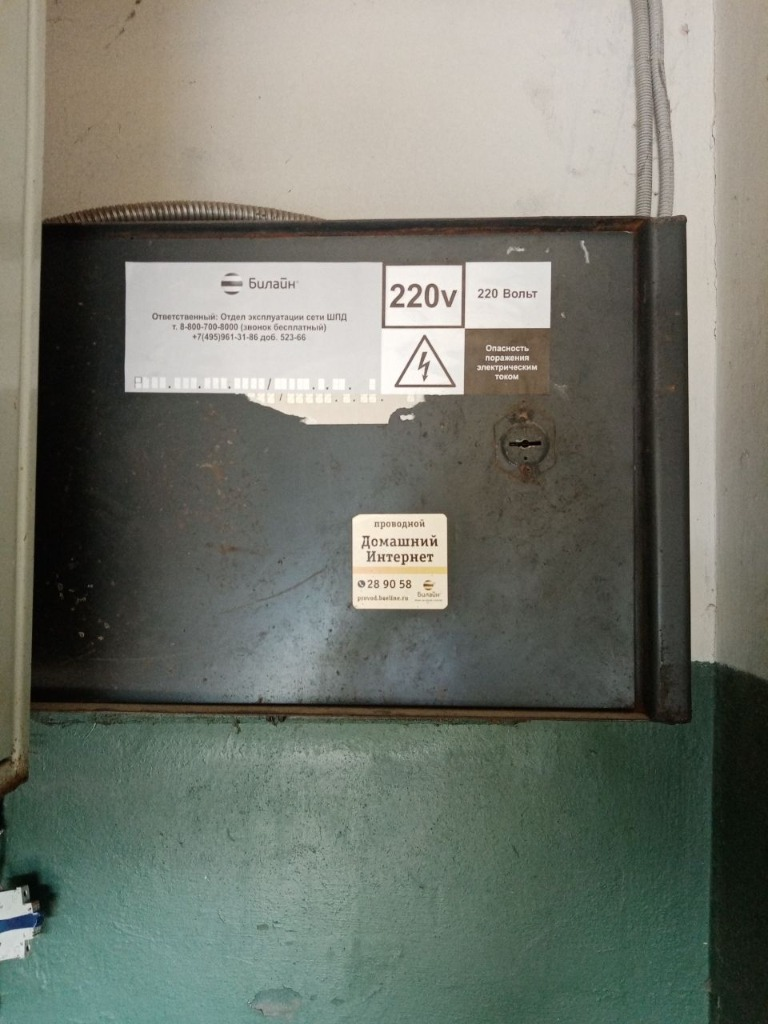e2-6u: (7, 200, 702, 736)
